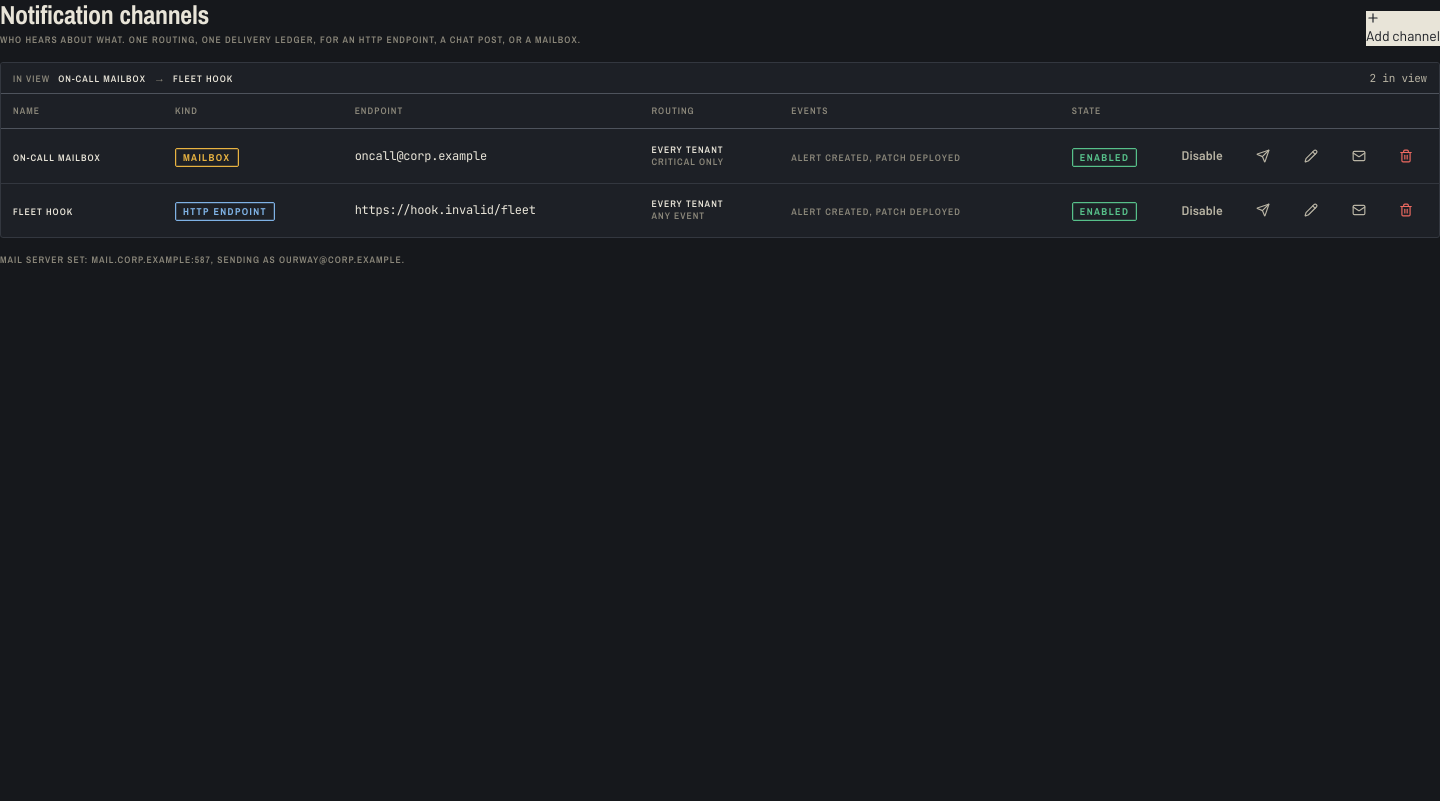
Test: notification channel ledger › keeps the refusal on screen when a channel was not saved
This screenshot has width=1440, height=801.
Click the button "Add channel": (1403, 28) [1366, 10, 1439, 46]
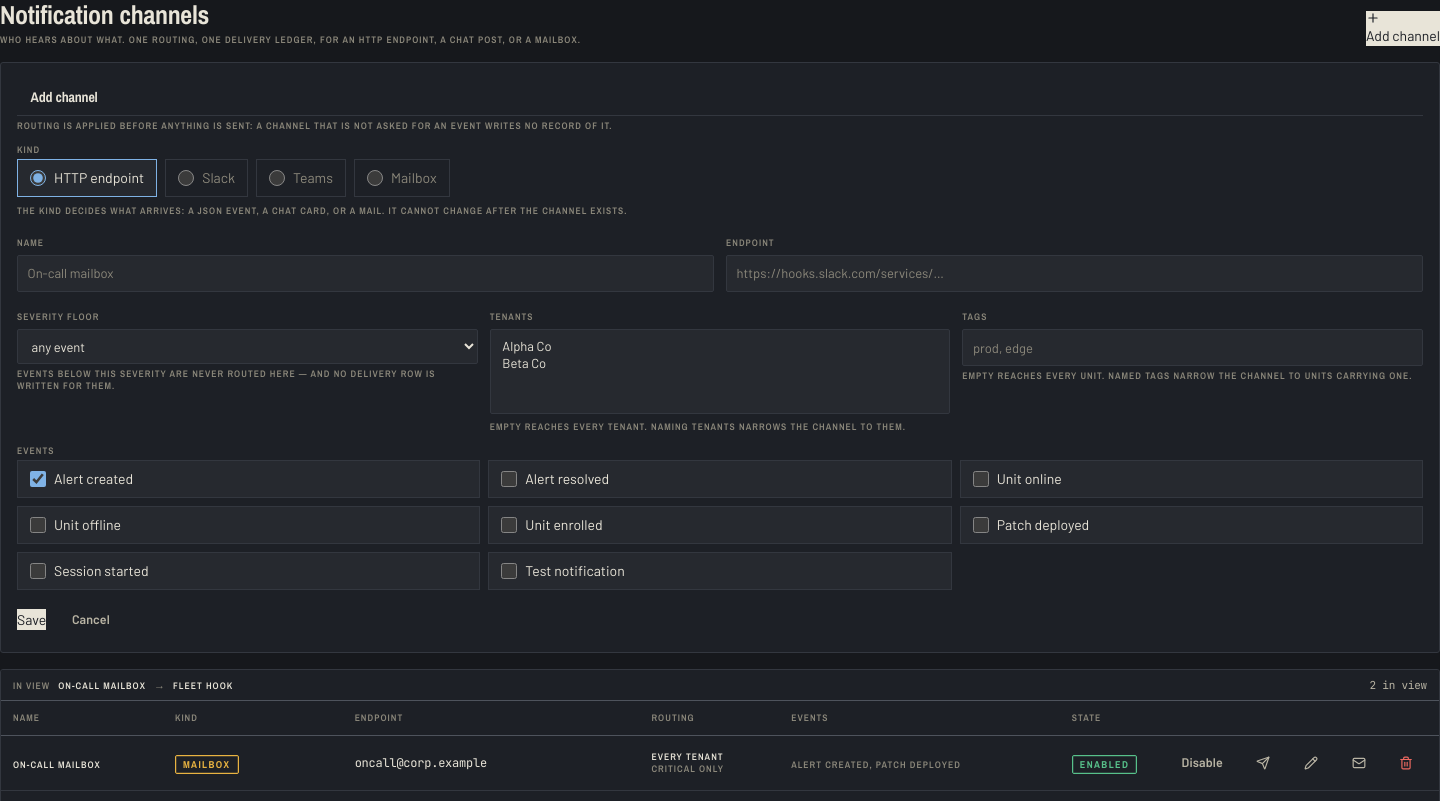
Click the radio button labelled "Mailbox": (375, 178) [367, 170, 383, 186]
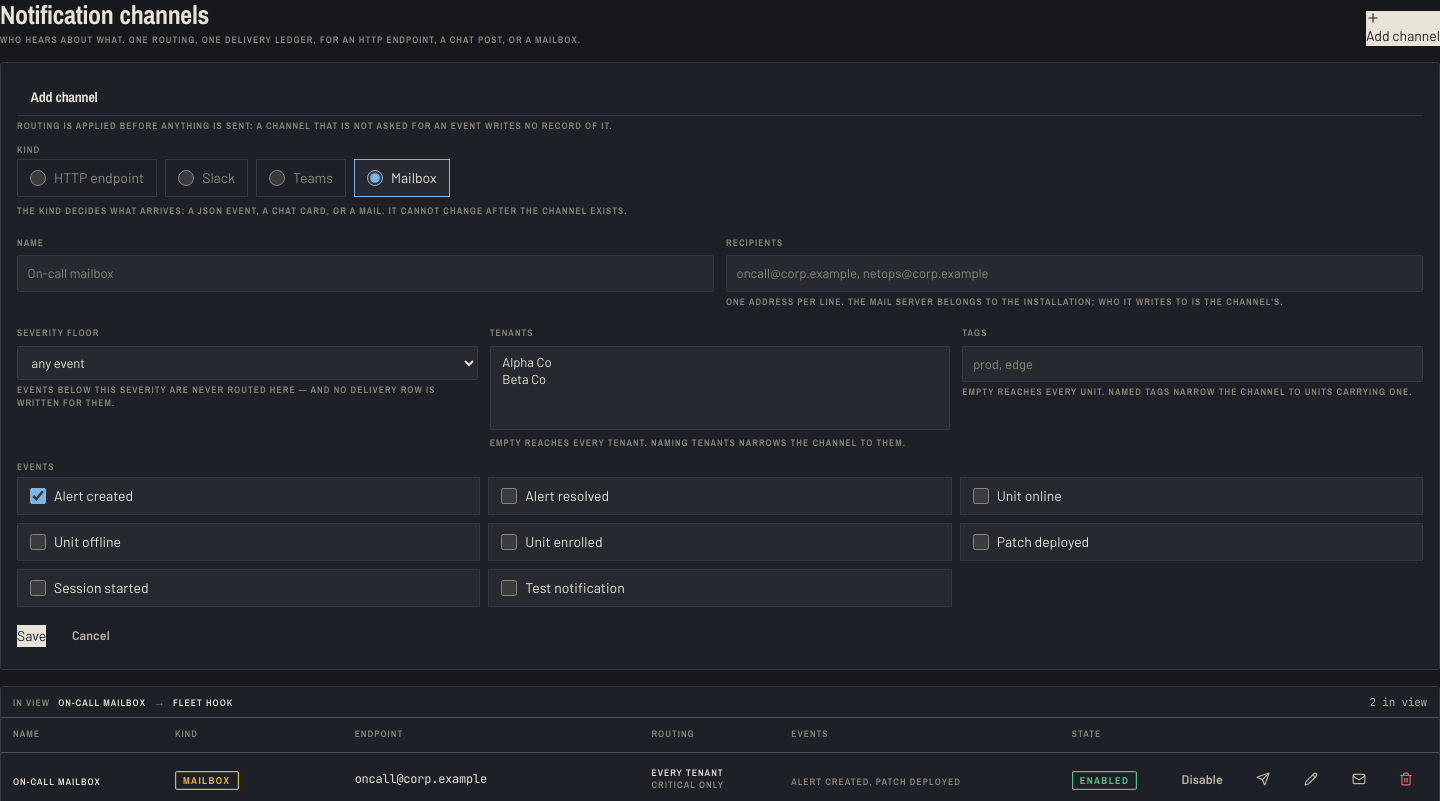
In the field labelled "Name": (366, 274) [17, 255, 714, 292], type "Night mailbox"
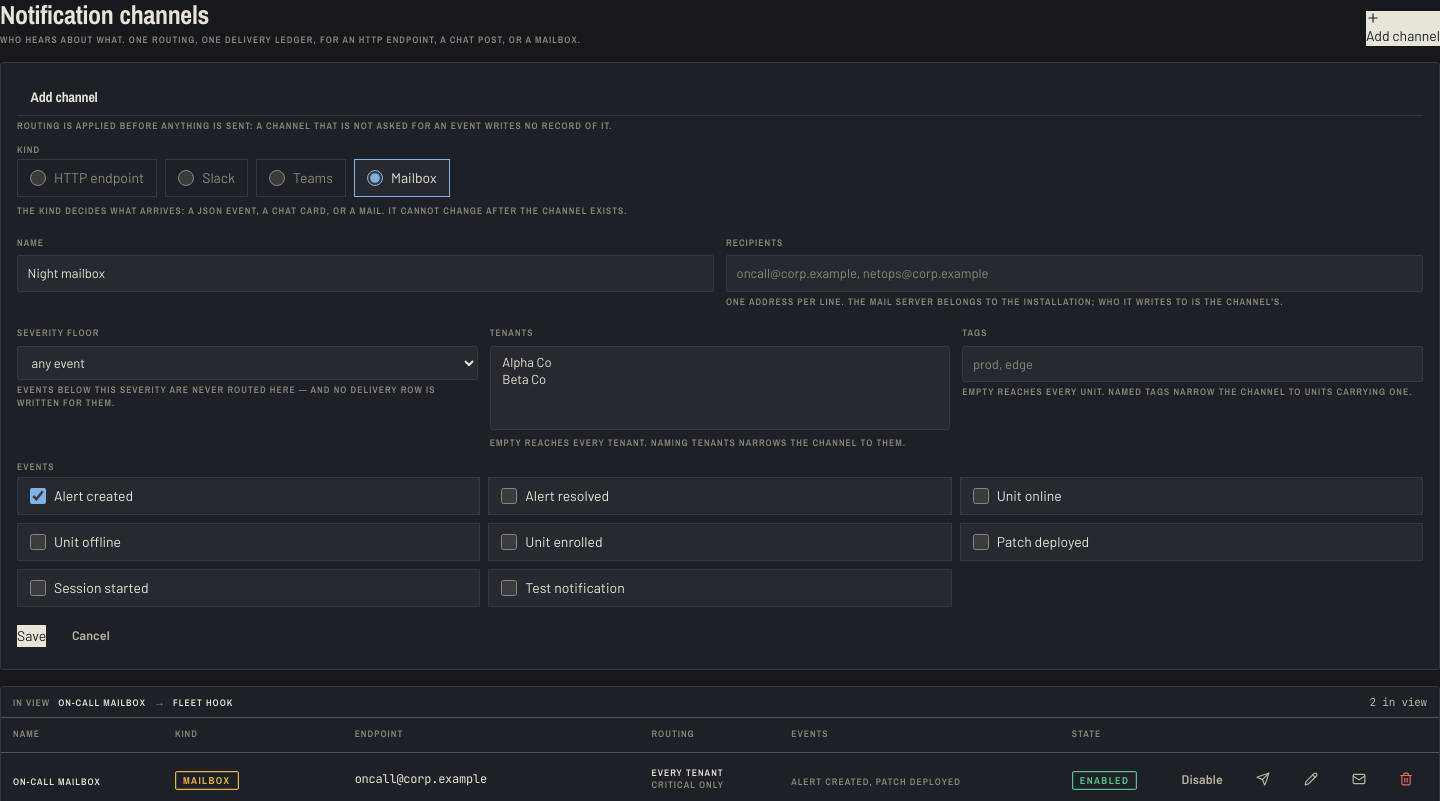
In the field labelled "Recipients": (1074, 274) [726, 255, 1423, 292], type "night@corp.example"
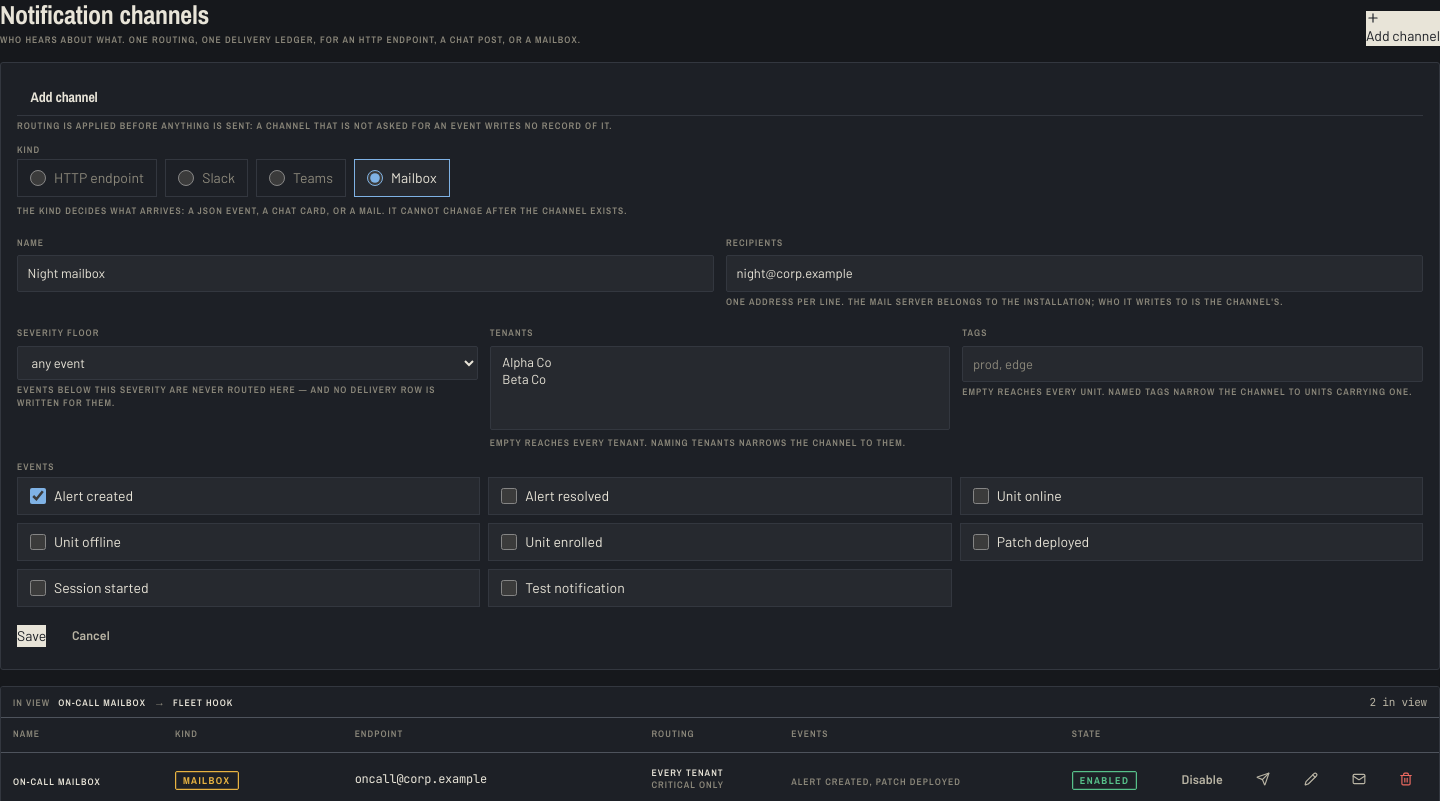
Click the button "Save": (32, 636) [17, 625, 46, 647]
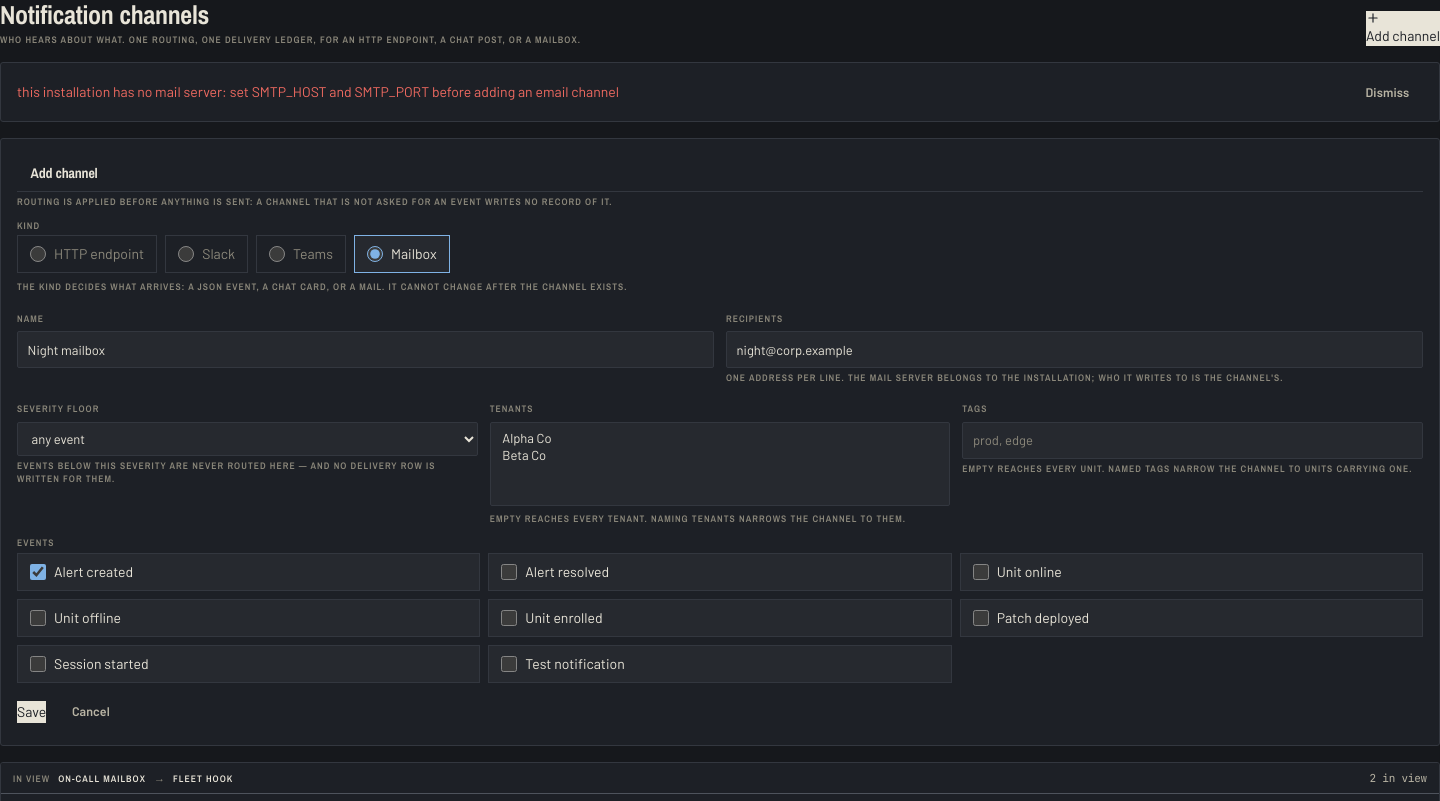
Expected: the form "Add channel" is shown
Expected: the message shows "no mail server", [17, 83, 619, 100]
